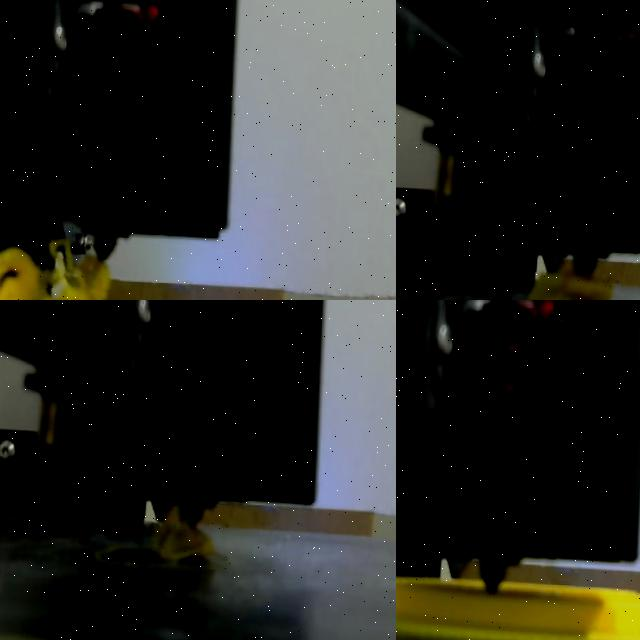spaghetti: (0, 233, 124, 300), (141, 510, 222, 571), (522, 264, 622, 300)
